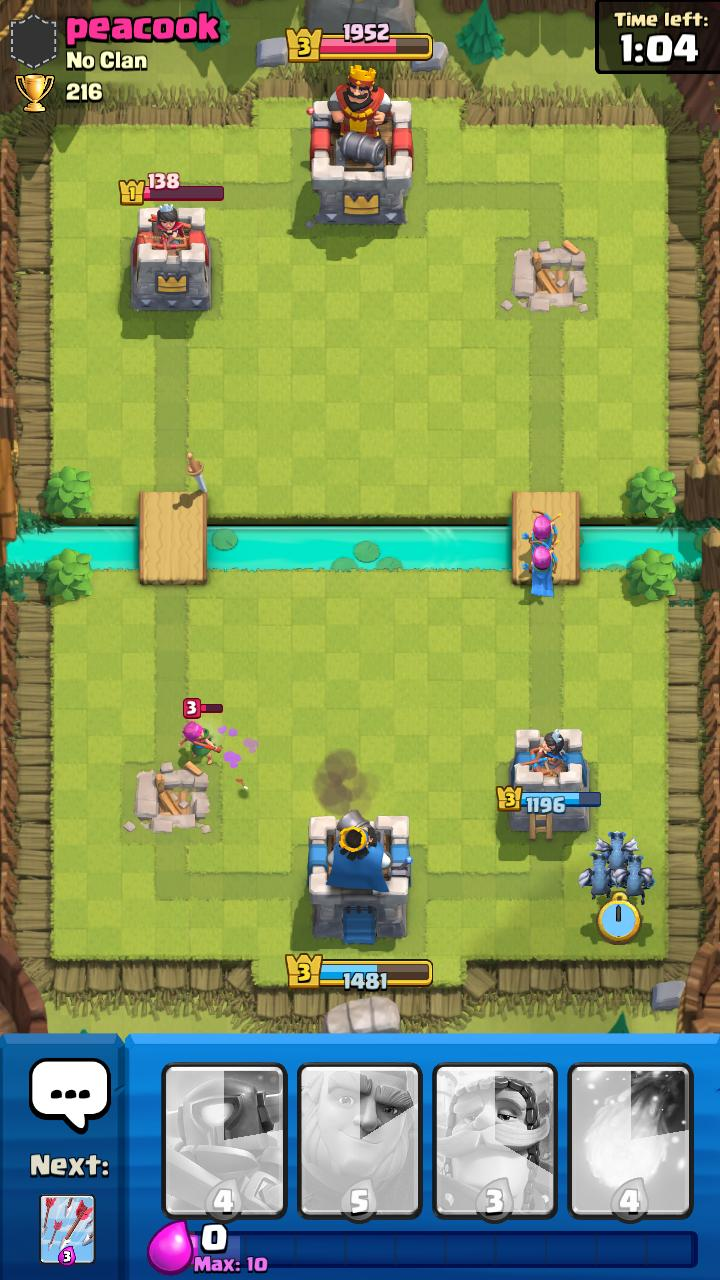ally: (522, 540, 560, 598), (613, 855, 655, 905), (522, 509, 562, 559), (578, 852, 618, 900), (594, 831, 640, 872)
enemy: (178, 698, 223, 765)
